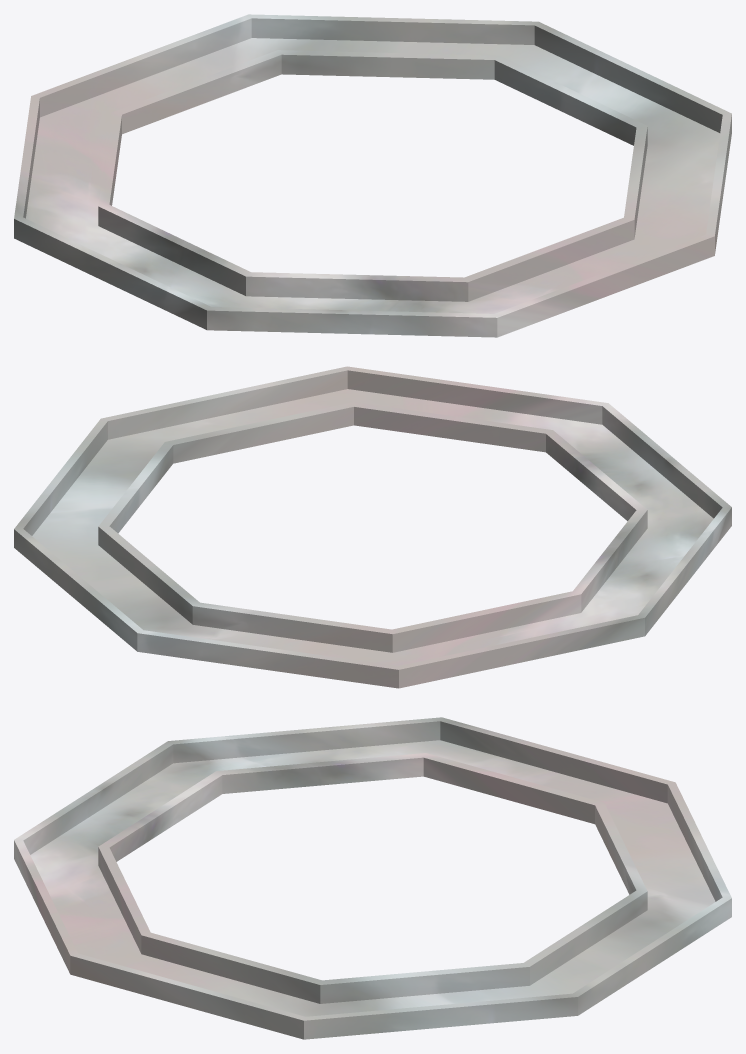
Rendered from TheOctagon_Floor_5.gltf.
The picture shows the model from 3 angles, top to bottom: view 1: azimuth 30°, elevation 25°; view 2: azimuth 150°, elevation 25°; view 3: azimuth 270°, elevation 25°; orthographic projection. The views are drawn at different scales.
Parts seen in each view (by area): view 1: TheOctagon_Floor_5; view 2: TheOctagon_Floor_5; view 3: TheOctagon_Floor_5.
Part boxes in pixels (x1,y1,x2,y2): TheOctagon_Floor_5: (14, 14, 731, 337); TheOctagon_Floor_5: (14, 366, 731, 688); TheOctagon_Floor_5: (14, 717, 731, 1039).
Bounding box in the file's own units: 81.92 × 2.39 × 81.92.
Materials: 1 (1 with a texture image).
